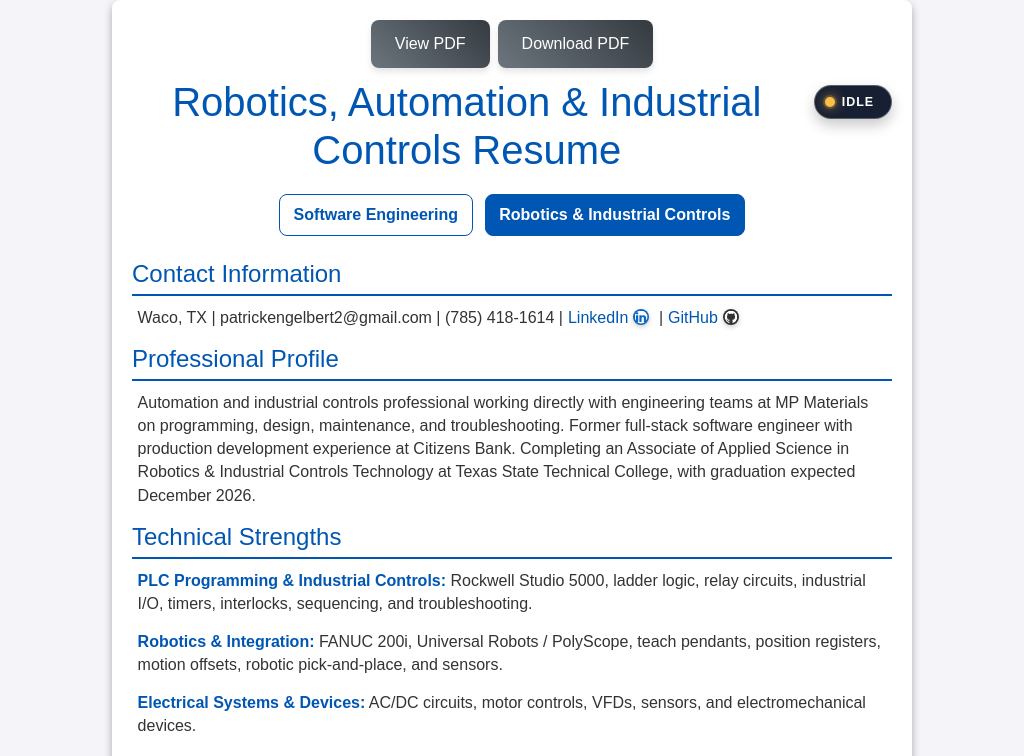
Test: resume navigation still unlocks Dual Stack and preserves the software PDF
This screenshot has width=1024, height=756.
Step 1. Click the link "Software Engineering" → (376, 215), box [279,194,473,236]
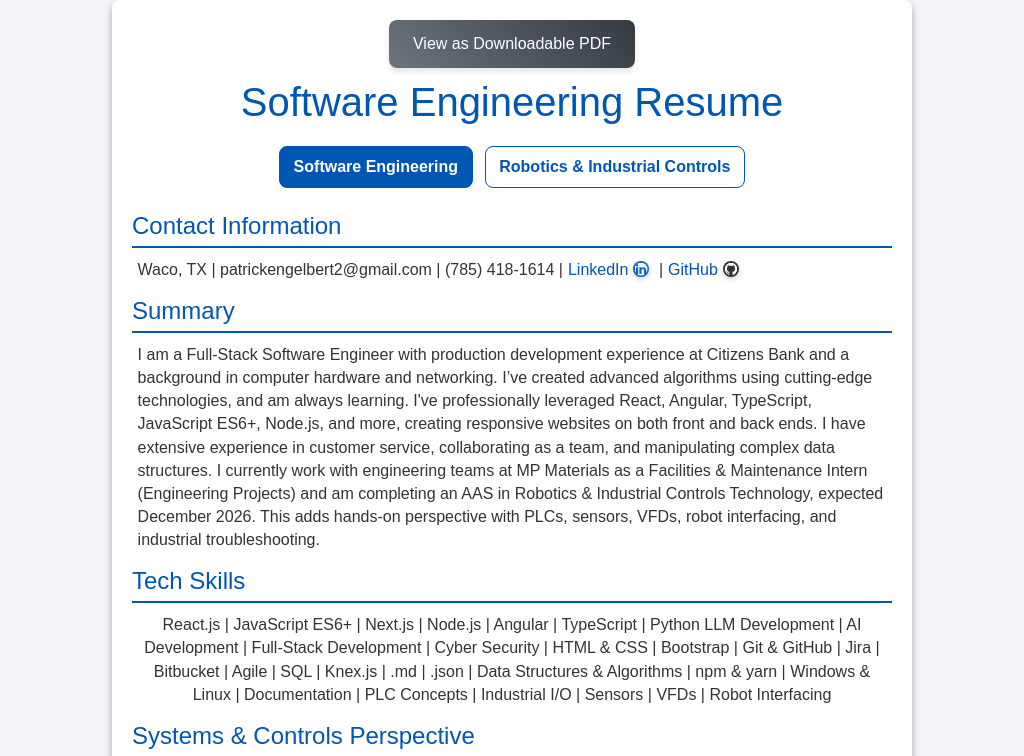
Check: the heading "Software Engineering Resume" is shown, box [241,80,783,124]
Step 2. Click the link "Robotics & Industrial Controls" → (615, 167), box [485,146,745,188]
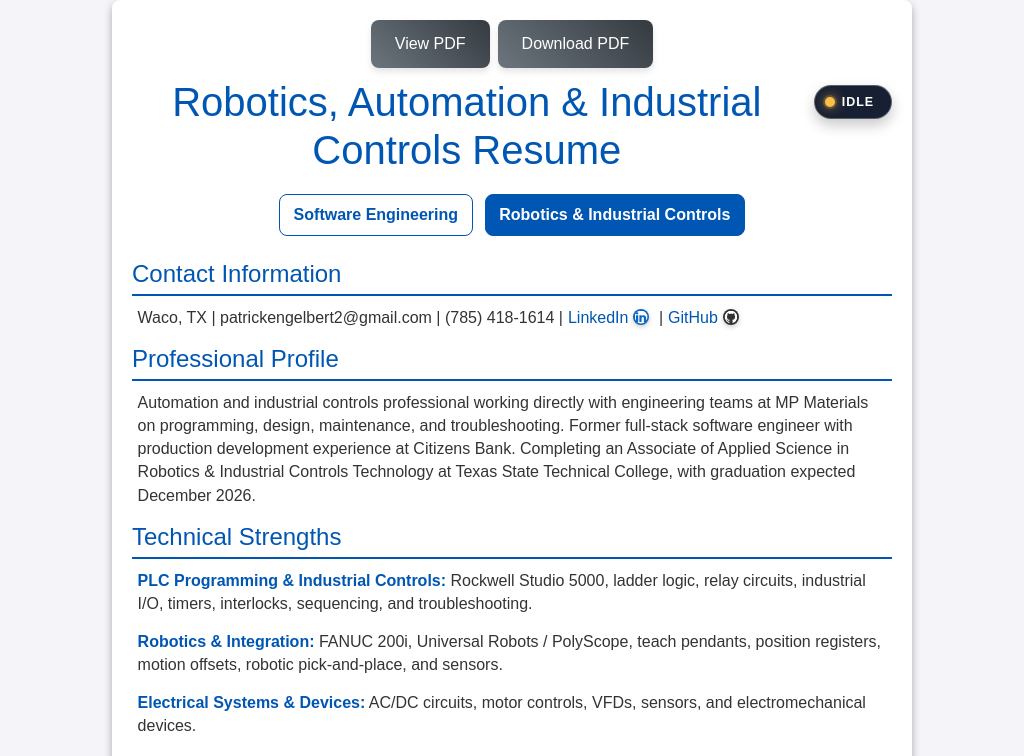
Check: the link "Download PDF" is shown, box [498,20,653,68]
